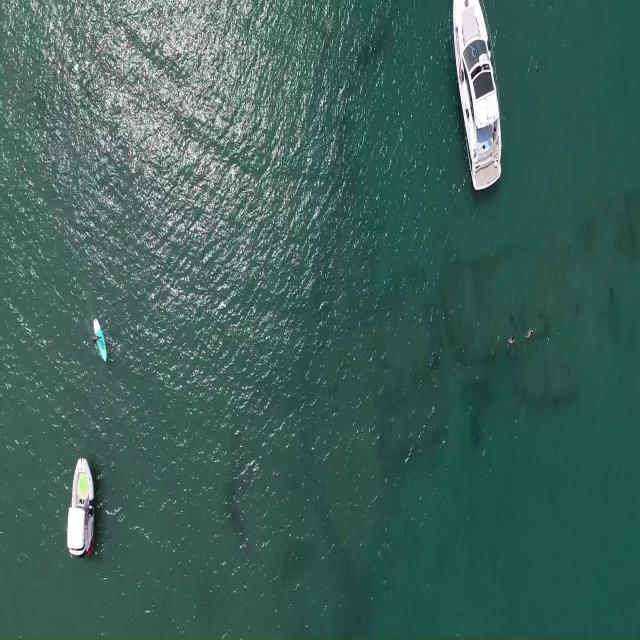boat: (450, 1, 505, 191), (65, 452, 97, 564)
person: (525, 326, 538, 340), (91, 331, 102, 346), (508, 336, 516, 346)
surfboard: (92, 317, 108, 368)
